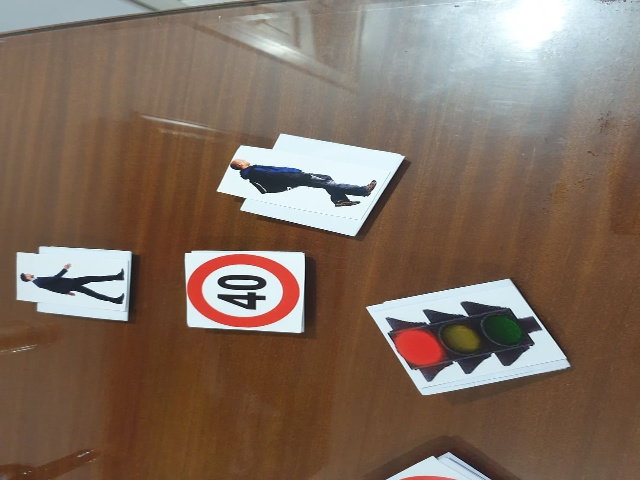Limit 40: (186, 254, 300, 329)
Person: (224, 155, 380, 214), (16, 255, 128, 304)
Red: (381, 306, 552, 381)
